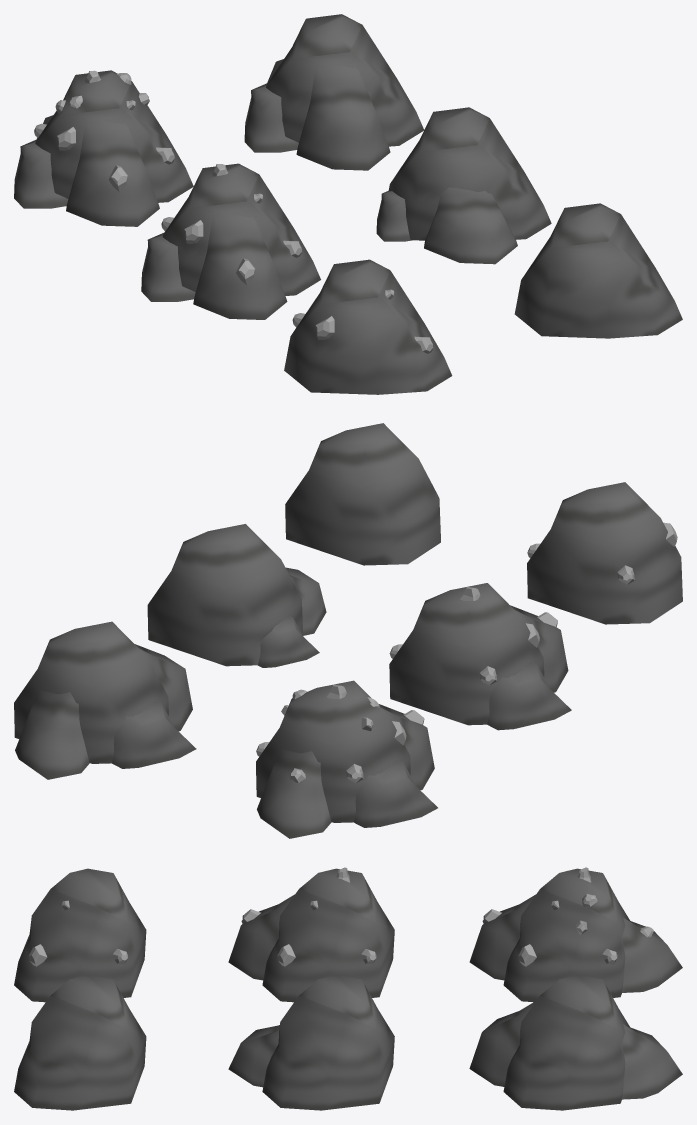
Rendered from Ores.fbx.
The picture shows the model from 3 angles, top to bottom: view 1: azimuth 30°, elevation 25°; view 2: azimuth 150°, elevation 25°; view 3: azimuth 270°, elevation 25°; orthographic projection. The views are drawn at different scales.
Parts seen in each view (by area): view 1: Ore, Ore001, Ore003, Ore004, Ore002, Ore005; view 2: Ore, Ore003, Ore001, Ore004, Ore002, Ore005; view 3: Ore003, Ore, Ore004, Ore001, Ore005, Ore002.
Boxes of the visible parts, bbox=[...] form: Ore: bbox=[14, 70, 193, 226]; Ore001: bbox=[141, 163, 320, 319]; Ore003: bbox=[244, 14, 423, 170]; Ore004: bbox=[376, 107, 551, 264]; Ore002: bbox=[284, 259, 452, 394]; Ore005: bbox=[514, 203, 682, 338]; Ore: bbox=[256, 680, 437, 838]; Ore003: bbox=[14, 621, 196, 779]; Ore001: bbox=[389, 583, 571, 730]; Ore004: bbox=[147, 524, 326, 667]; Ore002: bbox=[527, 482, 682, 624]; Ore005: bbox=[285, 423, 440, 565]; Ore003: bbox=[469, 975, 682, 1110]; Ore: bbox=[469, 867, 682, 1002]; Ore004: bbox=[228, 975, 394, 1110]; Ore001: bbox=[228, 867, 394, 1002]; Ore005: bbox=[14, 975, 146, 1110]; Ore002: bbox=[14, 868, 146, 1002].
Size of the model in its own units: 146 by 38.8 by 230.
